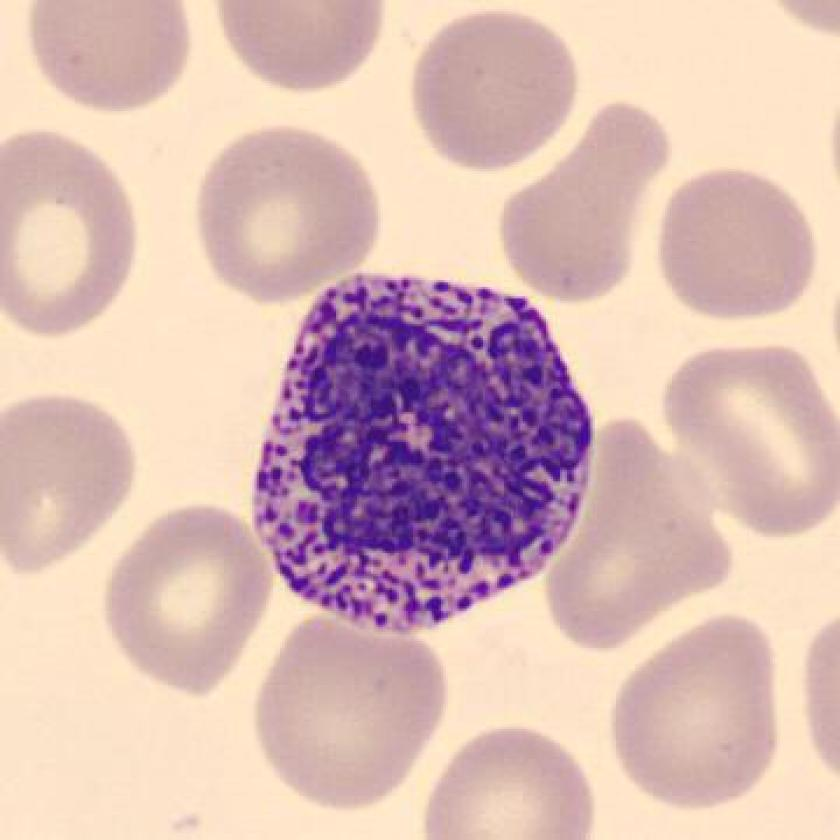basophil: (242, 254, 599, 645)
